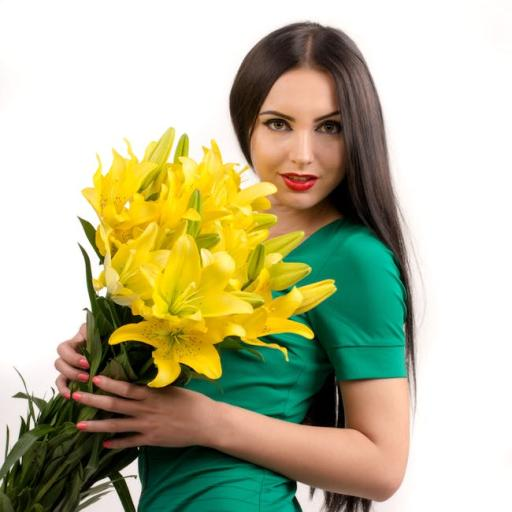lipstick: (281, 174, 317, 191)
